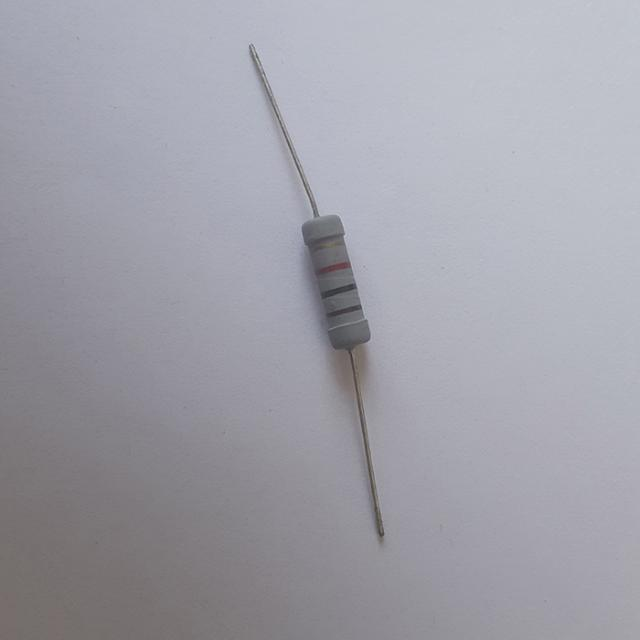black: (321, 282, 357, 298)
brown: (325, 303, 360, 317)
gold: (309, 239, 344, 253)
red: (315, 260, 350, 275)
resistor: (282, 212, 400, 360)
